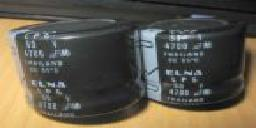Electrolytic-Capacitor: (8, 20, 145, 121), (141, 17, 248, 114)
